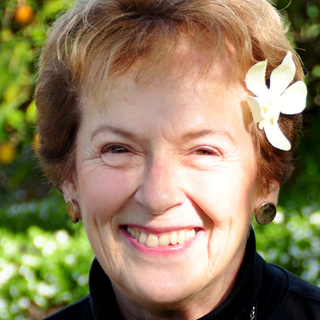eye: (94, 136, 140, 166), (185, 142, 223, 166)
